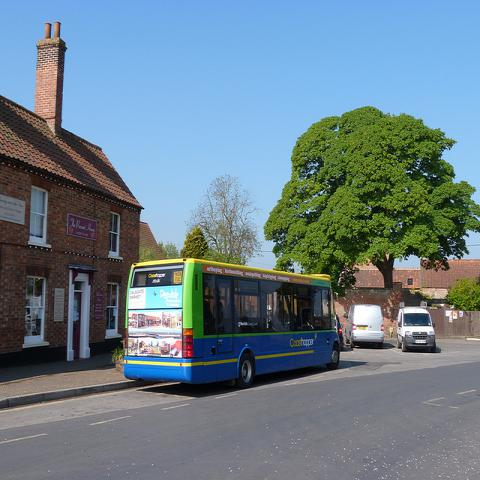bus: (118, 253, 346, 392)
car: (343, 304, 385, 349), (336, 314, 345, 352)
truck: (396, 306, 436, 352)
